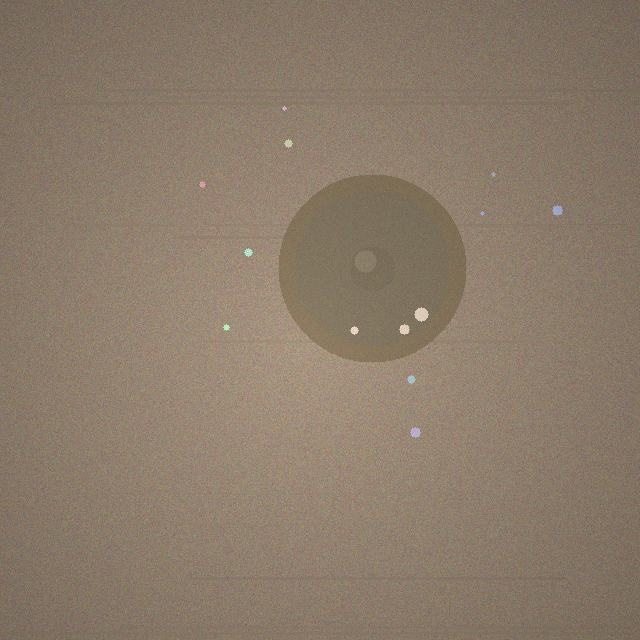overburn: (278, 174, 466, 362)
